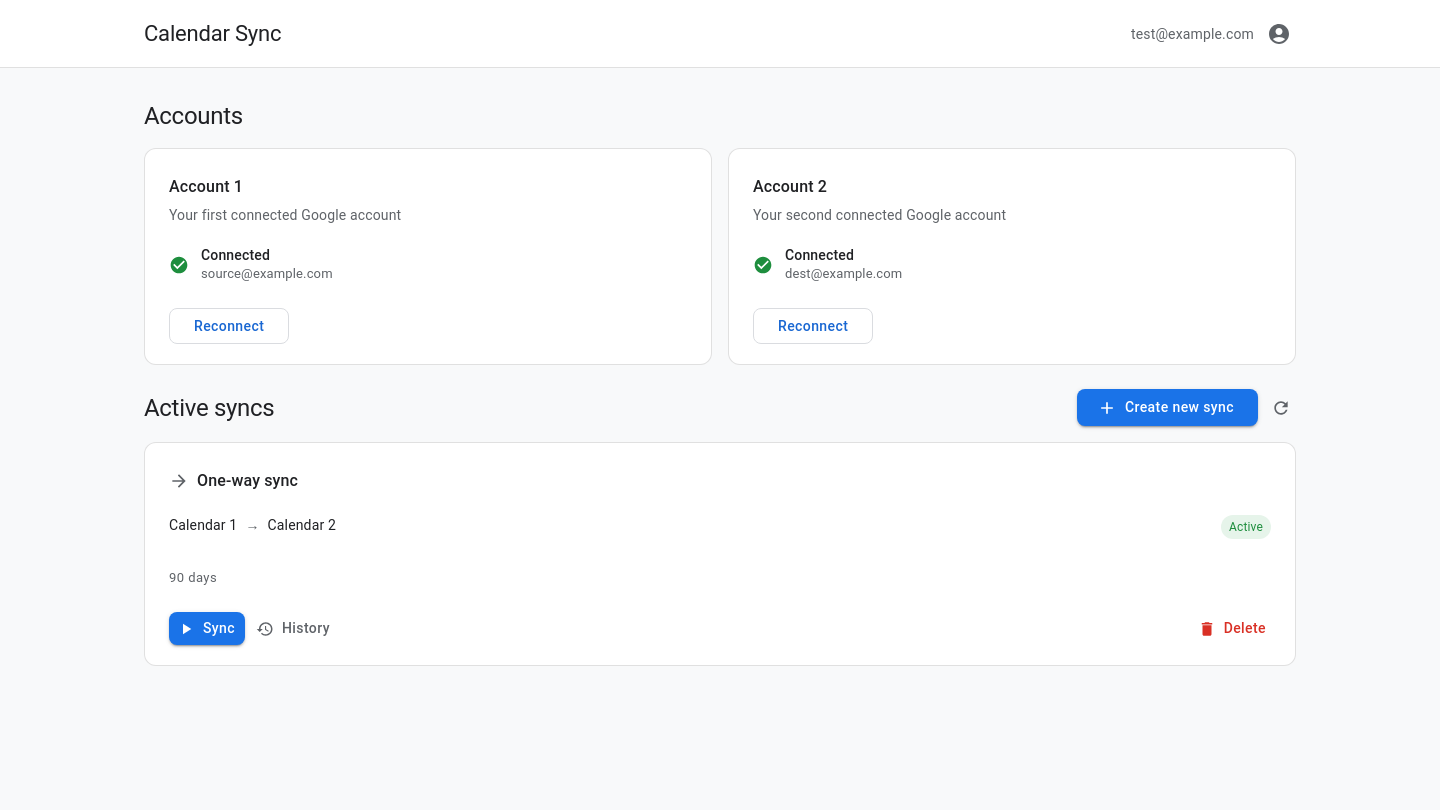
Test case: Dashboard - Sync Deletion › One-way sync deletion › should remove config from UI immediately after deletion
Check: the heading "Active syncs" is shown, box 144,392 -> 274,424
Check: the heading "One-way sync" is shown, box 197,467 -> 298,495
// Click the delete button in the one-way sync card
Click the button "Delete" at (1233, 629), box 1195,612 -> 1271,645
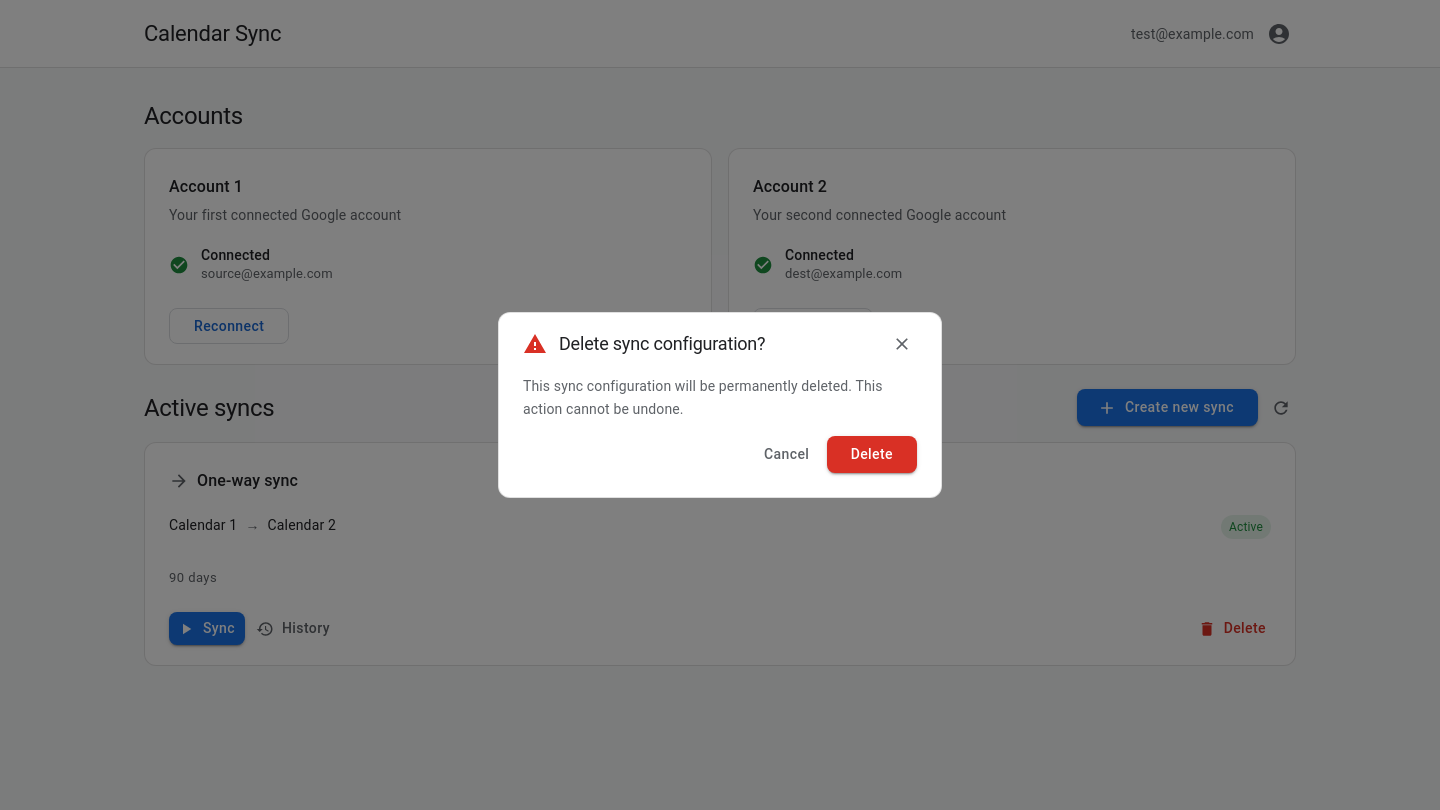
// Confirm deletion in dialog
Click the button "Delete" at (872, 454), box 827,436 -> 917,473
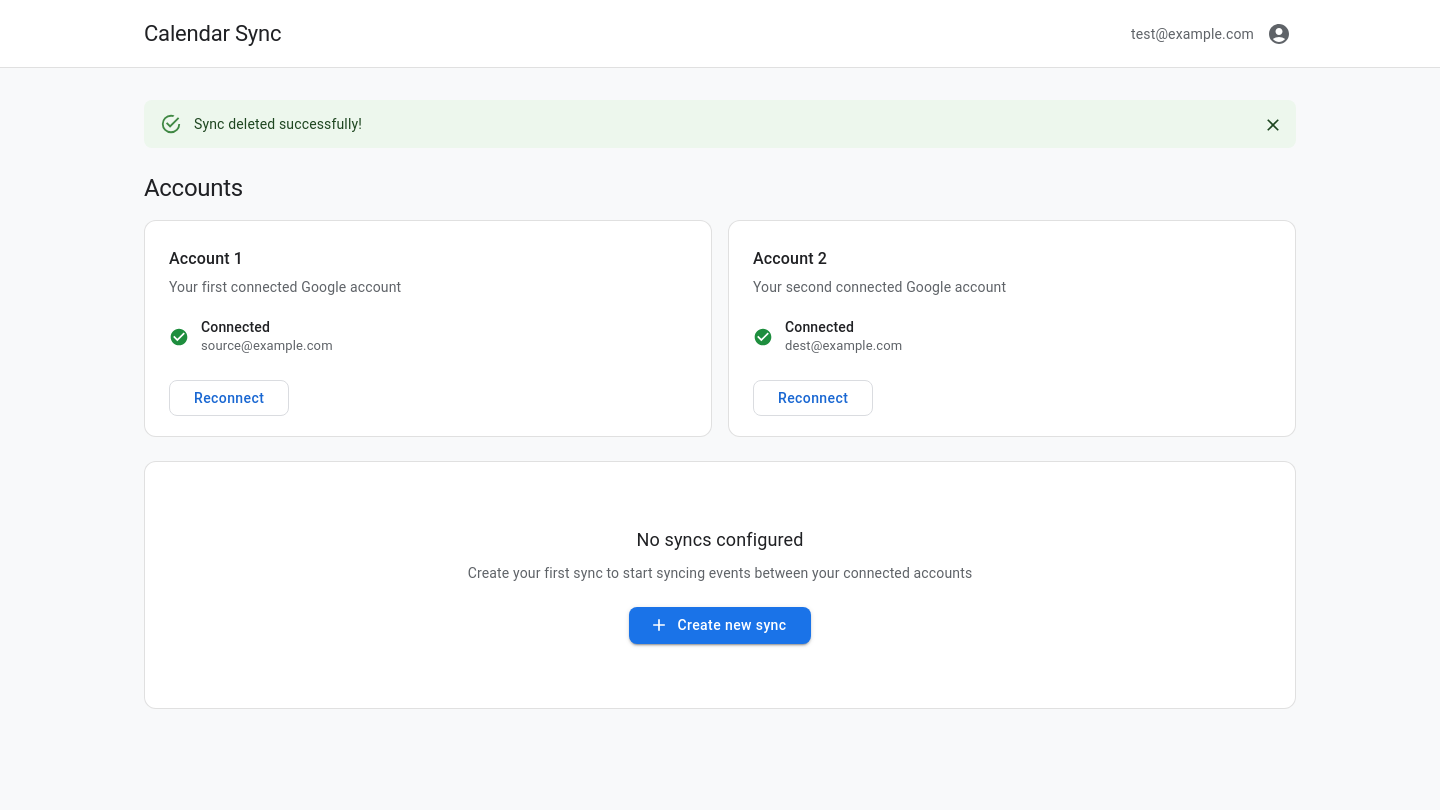
Check: the heading "One-way sync" is gone
Check: the text "Sync deleted successfully!" is shown, box 194,116 -> 362,132
